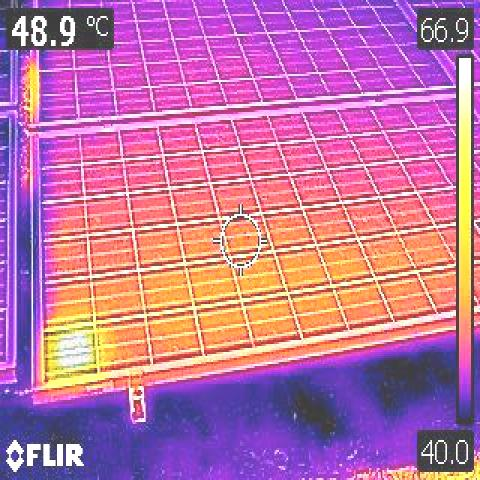fault: (46, 332, 97, 373)
